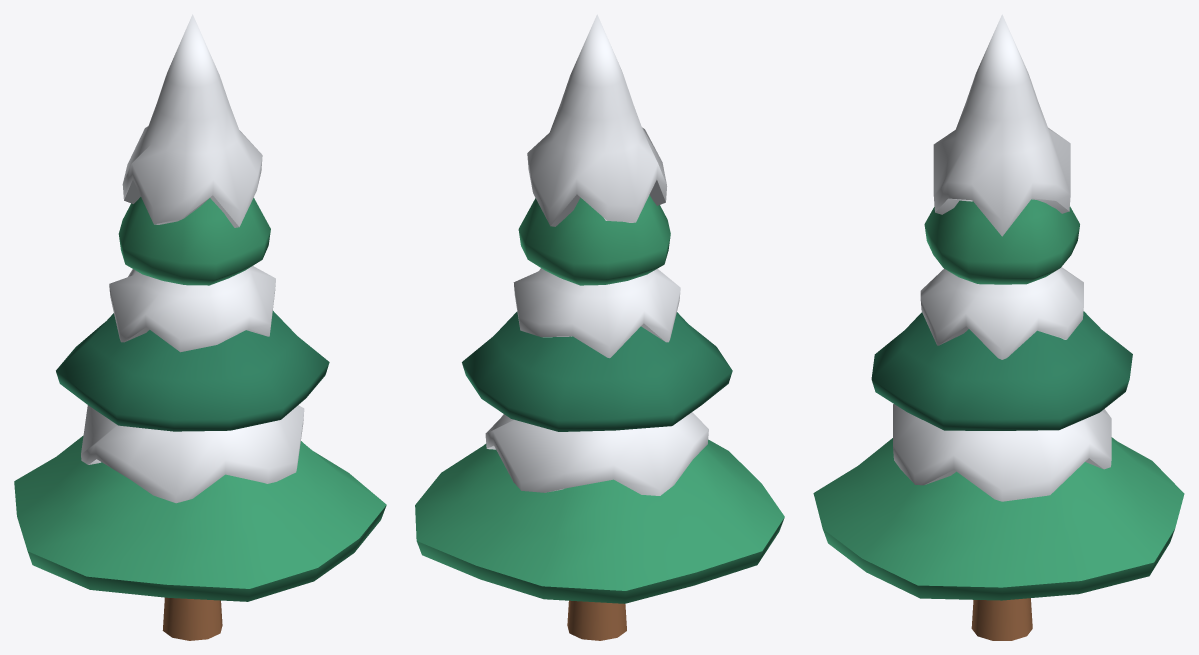
The model's file is pine_snow_small.glb.
3 renders of one model, left to right at view 1: azimuth 30°, elevation 25°; view 2: azimuth 150°, elevation 25°; view 3: azimuth 270°, elevation 25°, orthographic.
Parts seen in each view (by area): view 1: pine_snow_small; view 2: pine_snow_small; view 3: pine_snow_small.
Part boxes in pixels (x1,y1,x2,y2): pine_snow_small: (14,14,386,640); pine_snow_small: (415,14,784,640); pine_snow_small: (813,14,1184,640).
Size of the model in its own units: 1.7 by 3.11 by 1.7.
